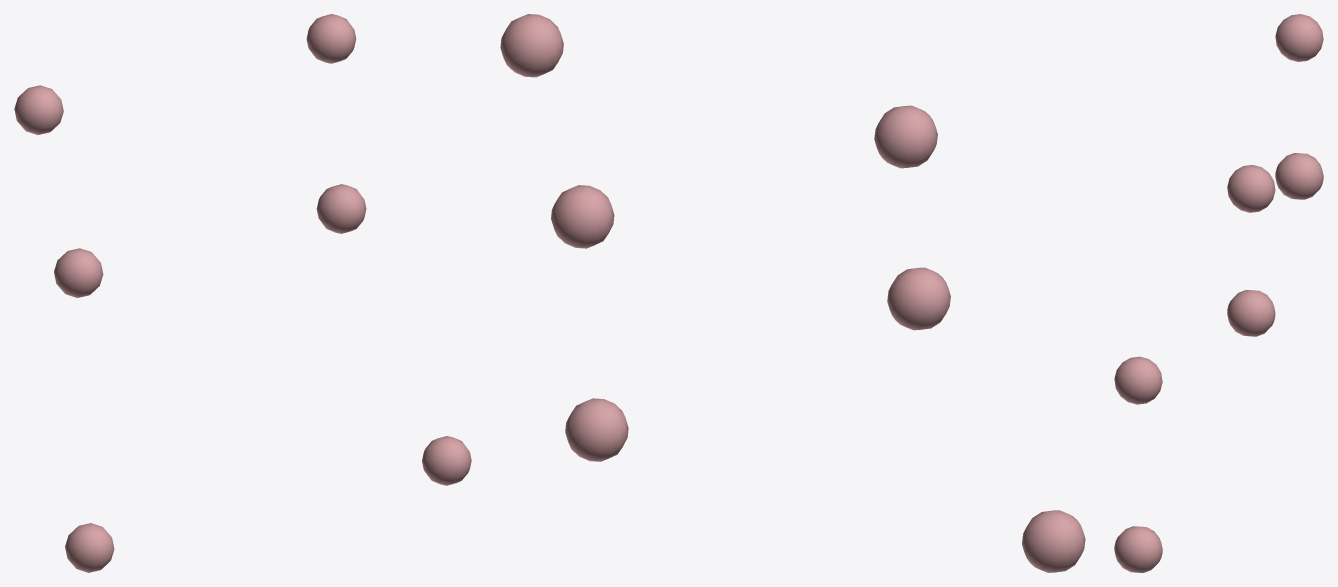
The picture shows the model from 3 angles, left to right: view 1: azimuth 30°, elevation 25°; view 2: azimuth 150°, elevation 25°; view 3: azimuth 270°, elevation 25°; orthographic projection. The views are drawn at different scales.
Parts seen in each view (by area): view 1: ZA_e616eec08fe64545; view 2: ZA_e616eec08fe64545; view 3: ZA_e616eec08fe64545.
Part boxes in pixels (<box>): ZA_e616eec08fe64545: <box>14,14,471,572</box>; ZA_e616eec08fe64545: <box>500,14,1085,572</box>; ZA_e616eec08fe64545: <box>1114,14,1323,572</box>.
Size of the model in its own units: 0.0239 by 0.0237 by 0.0112.
